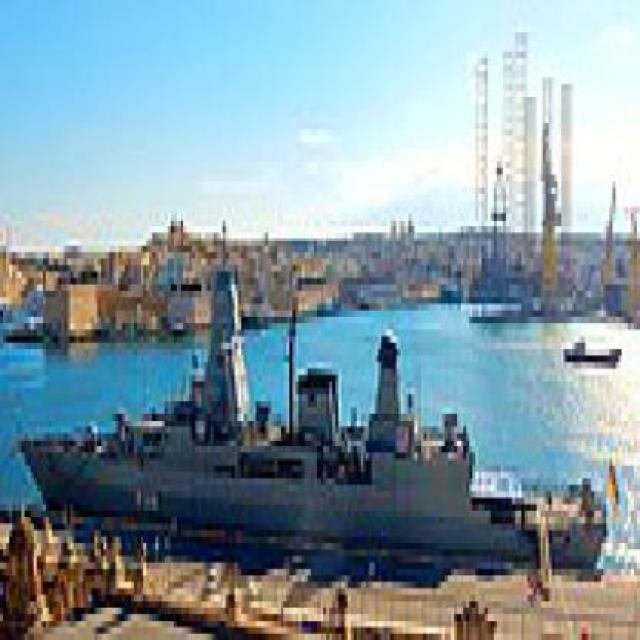warship2: (28, 201, 614, 564)
